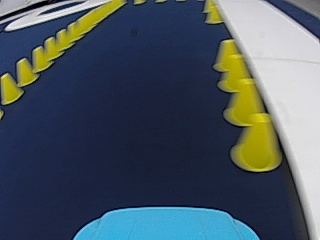cone: (231, 113, 283, 171), (216, 49, 263, 111), (223, 73, 265, 126), (213, 40, 248, 90), (0, 72, 22, 103), (15, 58, 36, 85), (30, 45, 49, 71), (42, 36, 57, 61), (54, 28, 68, 51), (205, 3, 221, 23)
